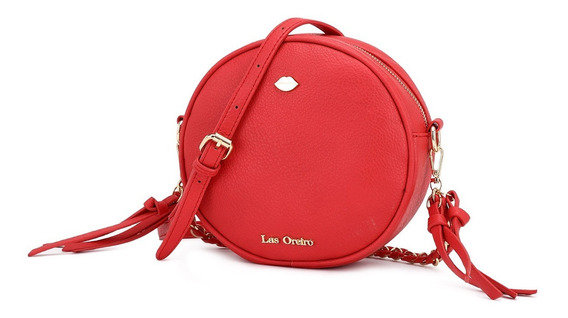cartera: (175, 15, 443, 270)
